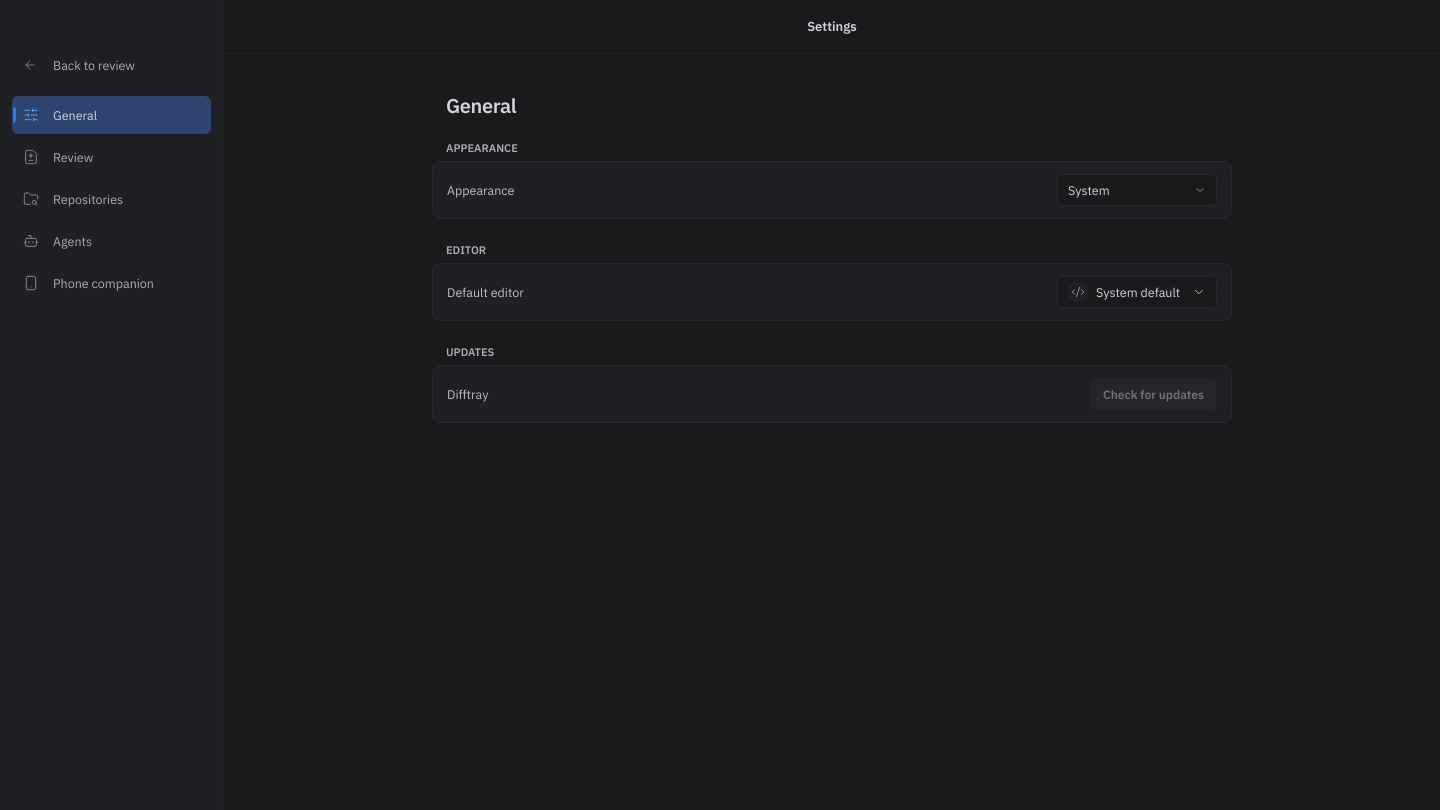
SettingsPanel › keeps blocked and unavailable targets disabled and explains why
Click the button "Agents". click: (112, 241)
box: [12,222,211,260]
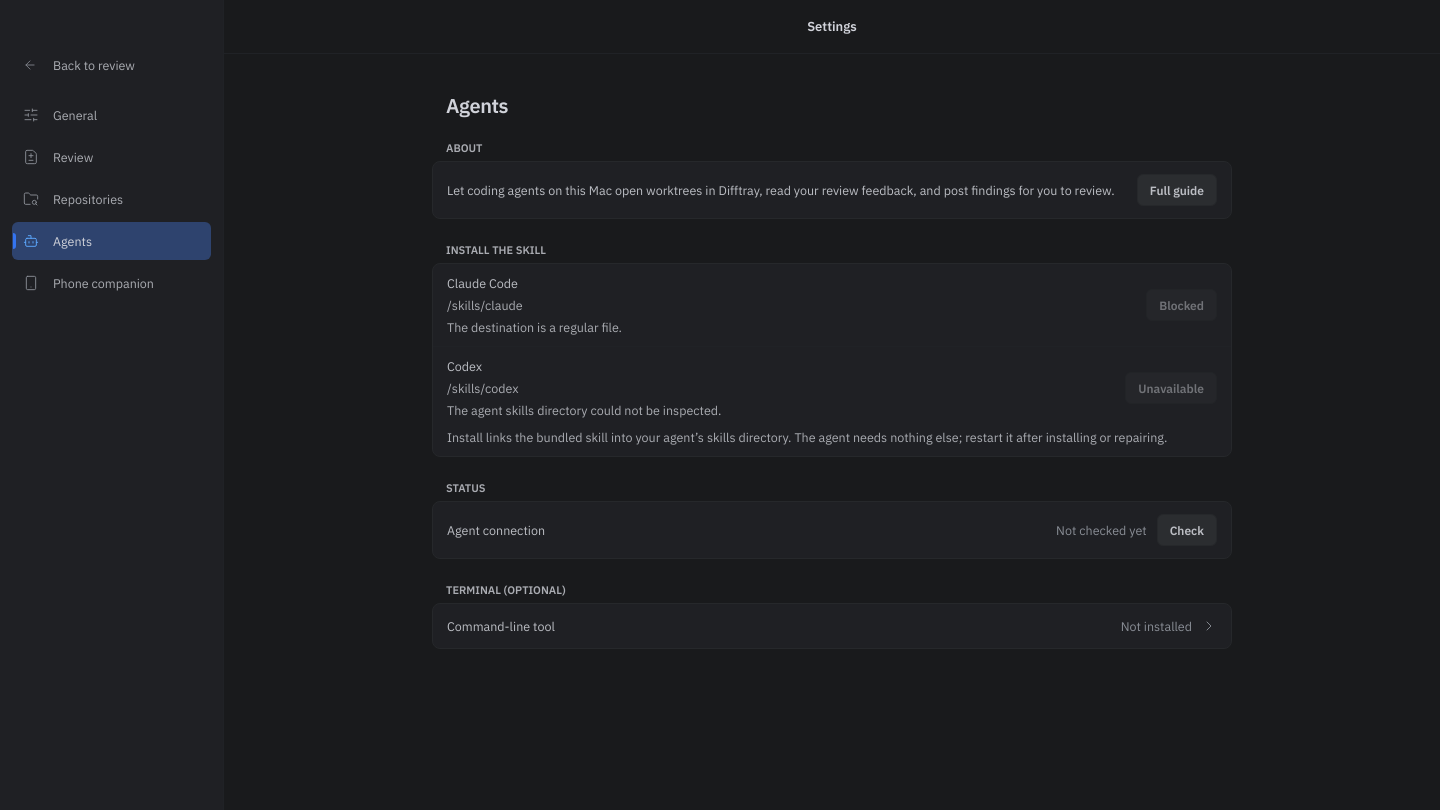
Expected: the heading with id "settings-page-title" reads "Agents", [446,92,508,119]
Expected: the button "Blocked" is disabled, [1146,289,1217,321]
Expected: the button "Unavailable" is disabled, [1125,372,1217,404]
